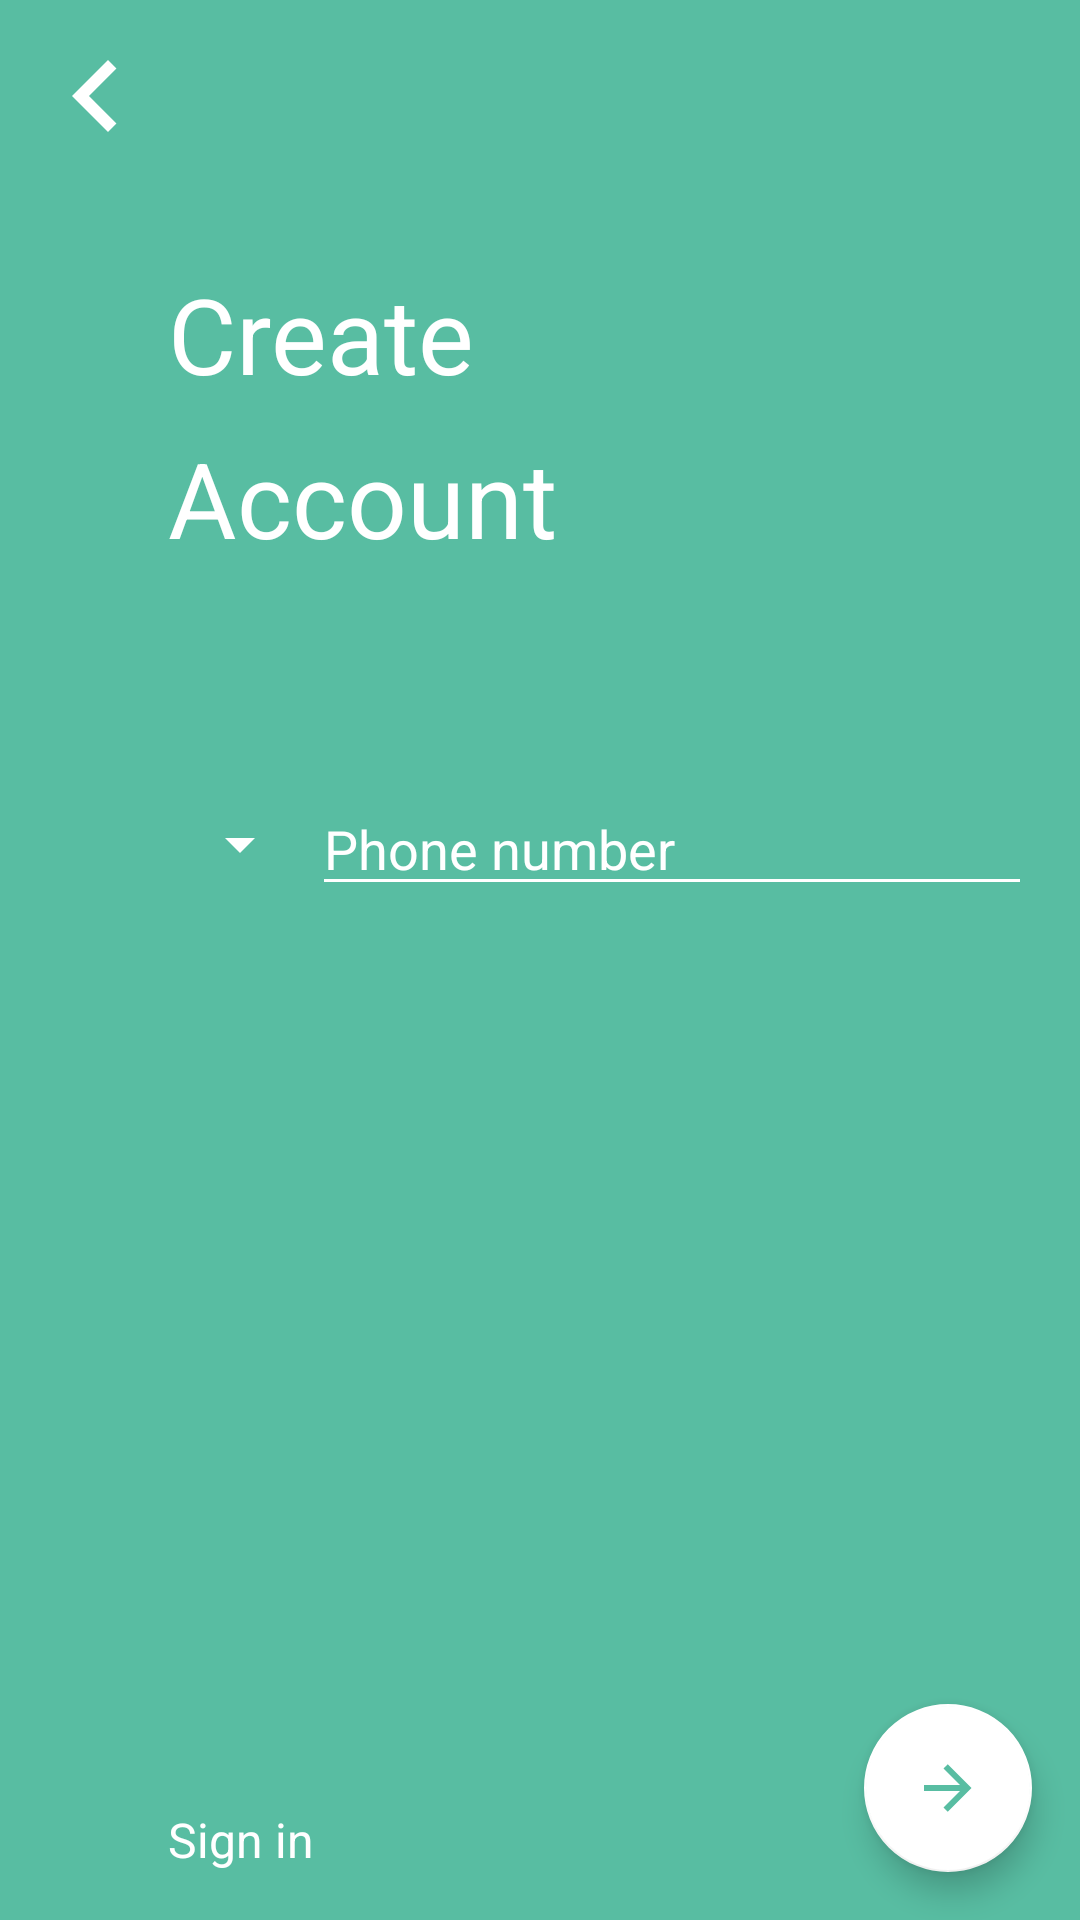

Locate icon controls on the screen. Image size 1080*1920, boxes as bbox(x1, y1, x2, y2).
arrow left: bbox(72, 60, 117, 132)
arrow right: bbox(864, 1704, 1032, 1872)
